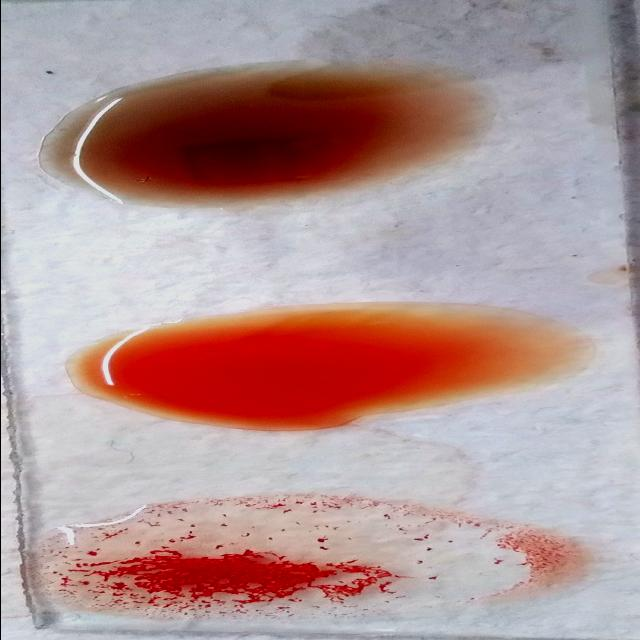D: (54, 510, 588, 618)
